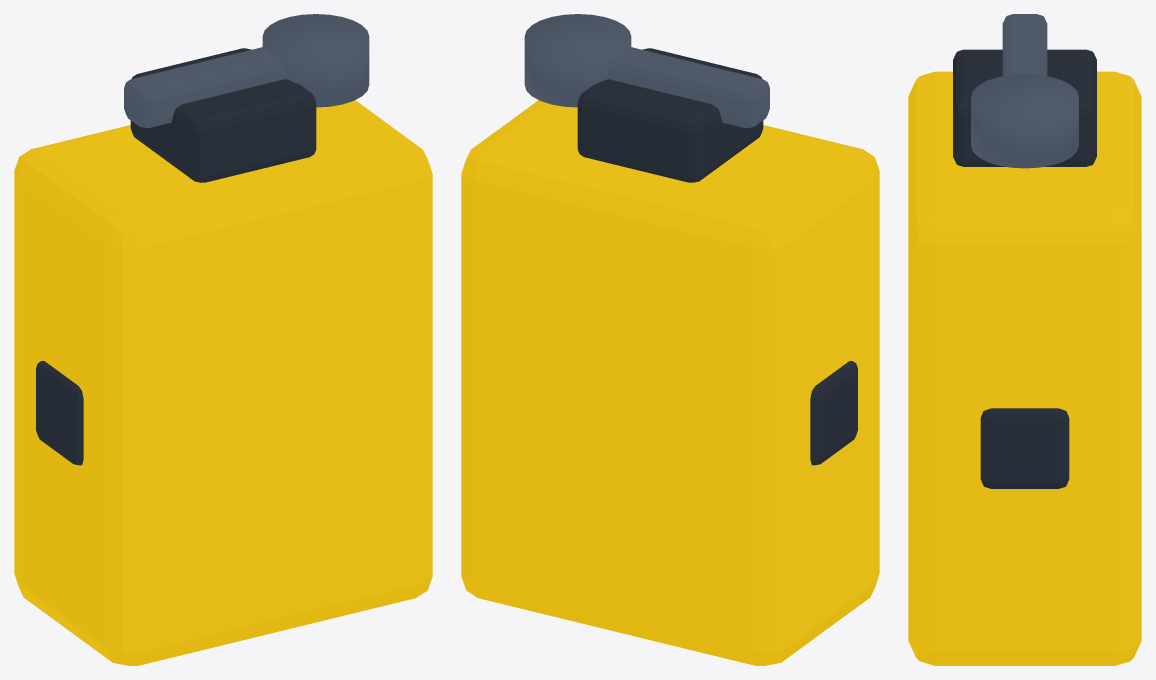
The model's file is bidon.glb.
The picture shows the model from 3 angles, left to right: view 1: azimuth 30°, elevation 25°; view 2: azimuth 150°, elevation 25°; view 3: azimuth 270°, elevation 25°; orthographic projection.
Visible parts, largest first — view 1: Cube.048, Cube.050, Cylinder.031, Cube.051, Cube.049; view 2: Cube.048, Cube.050, Cylinder.031, Cube.051, Cube.049; view 3: Cube.048, Cylinder.031, Cube.049, Cube.050, Cube.051.
Boxes of the visible parts, x1,y1,x2,y2 form: Cube.048: (14,100,432,665); Cube.050: (130,48,316,182); Cylinder.031: (262,14,369,107); Cube.051: (124,47,285,127); Cube.049: (36,361,83,465); Cube.048: (461,100,879,665); Cube.050: (577,48,763,182); Cylinder.031: (524,14,631,107); Cube.051: (608,47,769,127); Cube.049: (810,361,857,465); Cube.048: (908,71,1141,665); Cylinder.031: (971,74,1078,168); Cube.049: (980,408,1069,488); Cube.050: (953,49,1096,166); Cube.051: (1002,14,1047,75).
Size of the model in its own units: 0.44 by 0.67 by 0.26.
